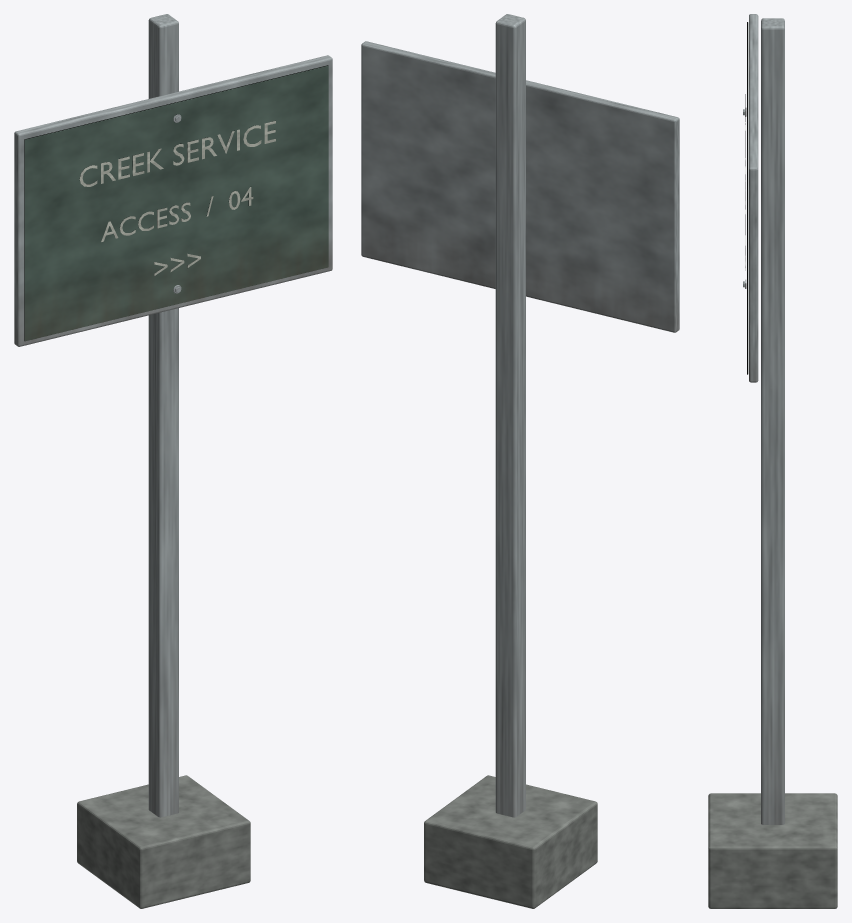
Rendered from GR_CreekSign_03.glb.
3 views of the same model, side by side, from view 1: azimuth 30°, elevation 25°; view 2: azimuth 150°, elevation 25°; view 3: azimuth 270°, elevation 25° (orthographic).
Visible parts, largest first — view 1: Static; view 2: Static; view 3: Static.
Boxes of the visible parts, box(x1,y1,x2,y2) form: Static: box(14, 14, 332, 908); Static: box(361, 14, 679, 908); Static: box(708, 14, 837, 908).
Bounding box in the file's own units: 0.85 × 2.2 × 0.3.
1 material, 1 textured.
